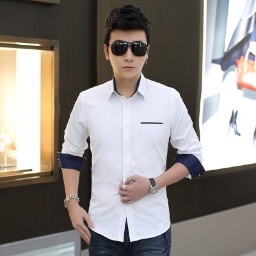face: (102, 5, 151, 82)
